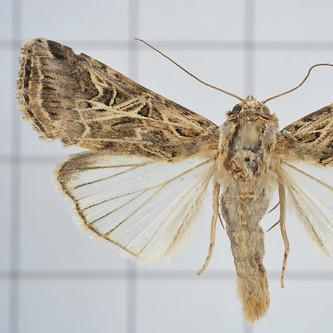Spodoptera litura: (16, 38, 333, 322)
